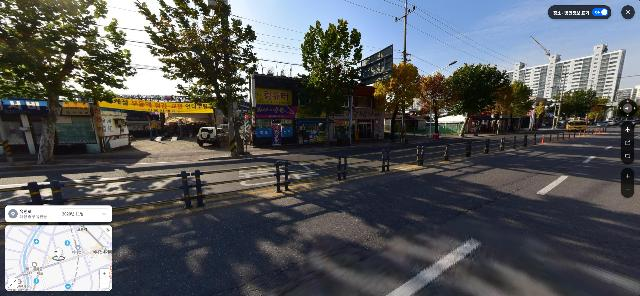ginkgo: (372, 61, 421, 140)
other: (1, 0, 132, 164), (135, 0, 259, 155), (294, 19, 364, 144), (446, 62, 505, 136), (418, 71, 450, 134), (556, 91, 595, 129), (505, 81, 533, 133), (483, 86, 509, 132), (586, 98, 611, 127), (533, 105, 554, 130)
